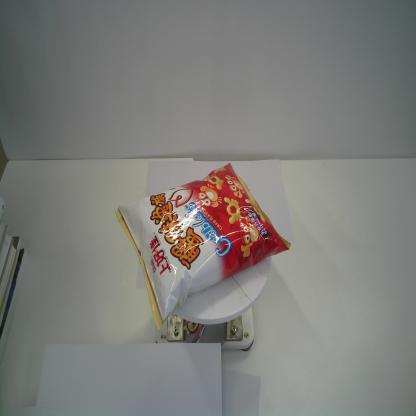Puffed Food: (115, 158, 292, 330)
